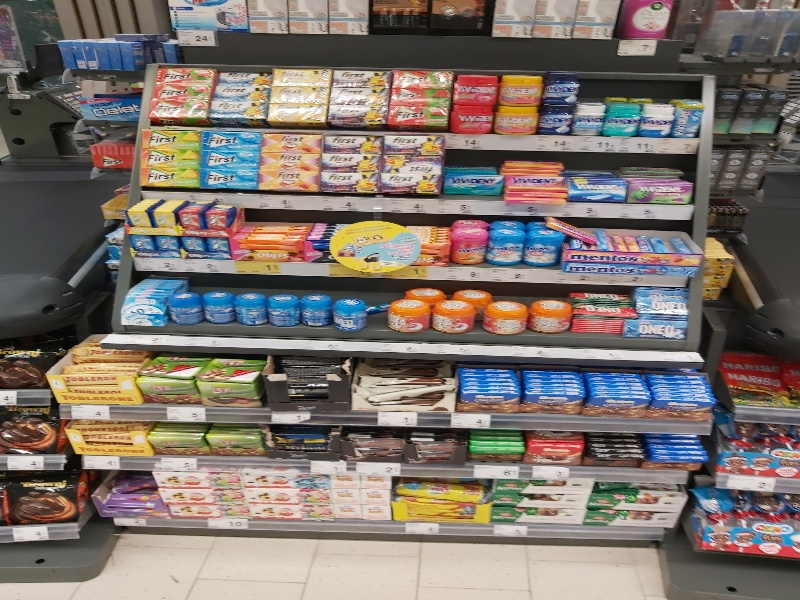urun: (346, 370, 462, 412), (43, 363, 145, 407), (258, 369, 348, 413), (721, 364, 793, 414), (8, 472, 80, 522), (564, 245, 699, 269), (262, 421, 342, 461), (67, 420, 150, 457), (1, 405, 63, 453), (338, 424, 411, 464), (389, 496, 500, 522), (584, 489, 691, 512), (582, 506, 689, 529), (486, 503, 593, 526), (230, 234, 317, 262), (405, 425, 464, 466), (467, 429, 526, 470), (525, 427, 584, 468), (151, 467, 246, 492), (158, 479, 253, 504), (157, 493, 252, 518), (490, 477, 597, 499), (145, 420, 211, 455), (205, 419, 265, 457), (444, 216, 489, 266), (483, 217, 528, 267), (521, 219, 566, 269), (619, 314, 692, 344), (455, 377, 520, 410), (522, 381, 587, 414), (587, 383, 652, 416), (651, 383, 716, 416), (1, 338, 42, 389), (136, 373, 199, 405), (197, 375, 260, 407), (119, 287, 169, 327), (384, 296, 435, 335), (427, 297, 478, 336), (480, 296, 531, 335), (144, 92, 215, 120), (563, 173, 630, 202), (628, 172, 695, 201), (317, 150, 386, 178), (526, 295, 572, 337), (205, 96, 272, 122), (324, 98, 391, 124), (262, 95, 329, 121), (384, 100, 451, 126), (438, 168, 505, 194), (501, 167, 568, 193), (258, 163, 322, 190), (142, 126, 208, 152), (139, 144, 205, 170), (138, 161, 204, 187), (320, 166, 383, 193), (379, 171, 442, 198), (380, 136, 443, 163), (447, 102, 500, 134), (166, 285, 205, 328), (199, 282, 238, 325), (233, 284, 272, 327), (387, 67, 456, 91), (199, 162, 262, 187), (450, 73, 502, 103), (493, 74, 545, 104), (154, 64, 216, 89), (268, 285, 304, 328), (298, 285, 334, 328), (269, 65, 334, 88), (327, 66, 392, 89), (200, 147, 266, 169), (492, 106, 543, 134), (570, 102, 608, 139), (603, 100, 641, 137), (639, 101, 677, 138), (330, 293, 369, 329), (322, 132, 382, 155), (534, 105, 579, 134), (538, 77, 584, 105), (257, 132, 321, 151), (259, 149, 323, 168), (673, 99, 703, 138), (201, 130, 262, 149), (180, 202, 208, 230), (204, 203, 232, 231), (127, 204, 153, 228), (152, 203, 178, 227), (129, 232, 157, 254), (151, 233, 179, 255), (179, 233, 207, 255), (201, 233, 229, 255)
